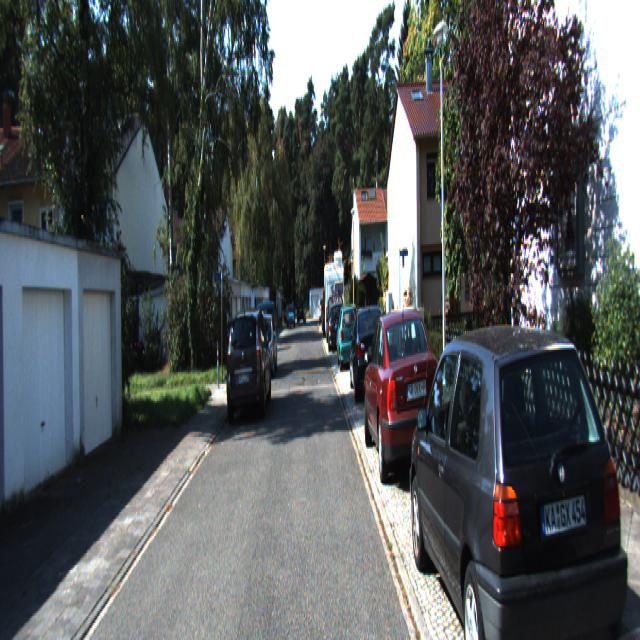Car: (408, 312, 638, 638), (362, 306, 446, 498), (226, 306, 272, 421), (348, 301, 387, 404), (251, 311, 278, 377), (336, 303, 362, 371), (324, 260, 344, 342), (328, 302, 347, 352)
